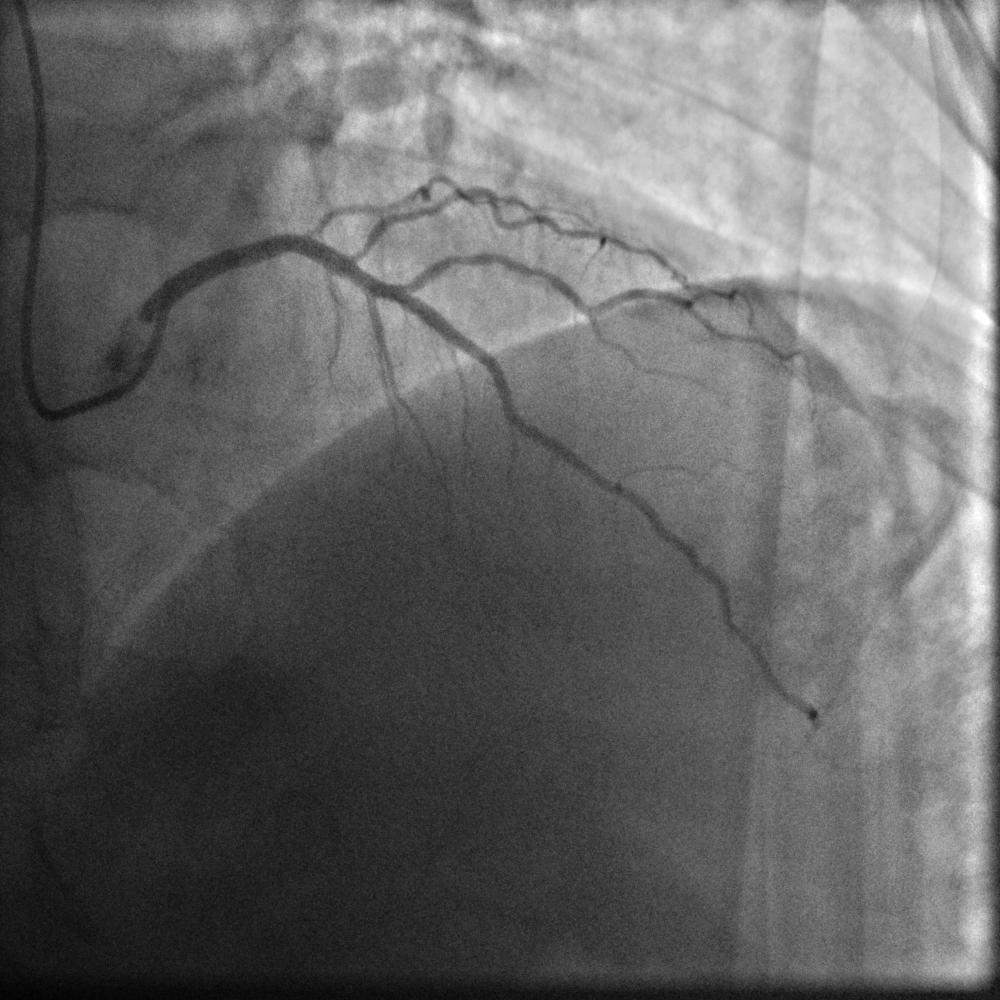Stenosis: (299, 208, 386, 265)
